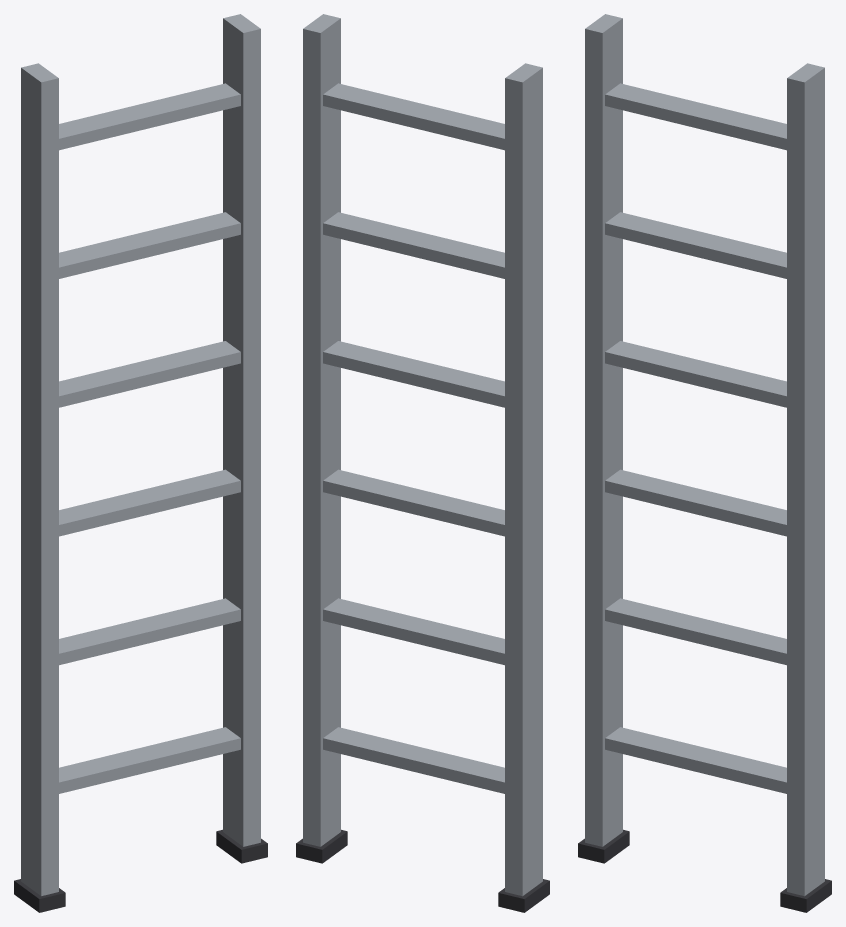
File: ladder.glb
The picture shows the model from 3 angles, left to right: view 1: azimuth 30°, elevation 25°; view 2: azimuth 150°, elevation 25°; view 3: azimuth 330°, elevation 25°; orthographic projection.
Visible parts, largest first — view 1: ladder; view 2: ladder; view 3: ladder.
Part boxes in pixels (<box>): ladder: <box>14,14,267,912</box>; ladder: <box>296,14,549,912</box>; ladder: <box>578,14,831,912</box>.
Bounding box in the file's own units: 0.52 × 1.8 × 0.1.
1 material, 1 textured.
